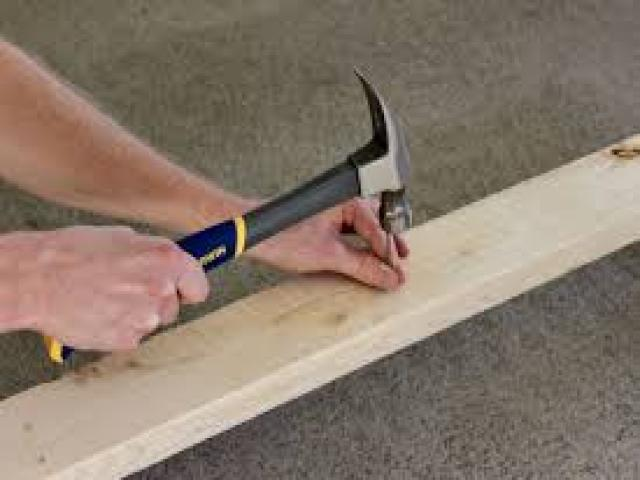Hammer: (176, 69, 410, 270)
Hand: (0, 39, 409, 291), (0, 225, 206, 350)
